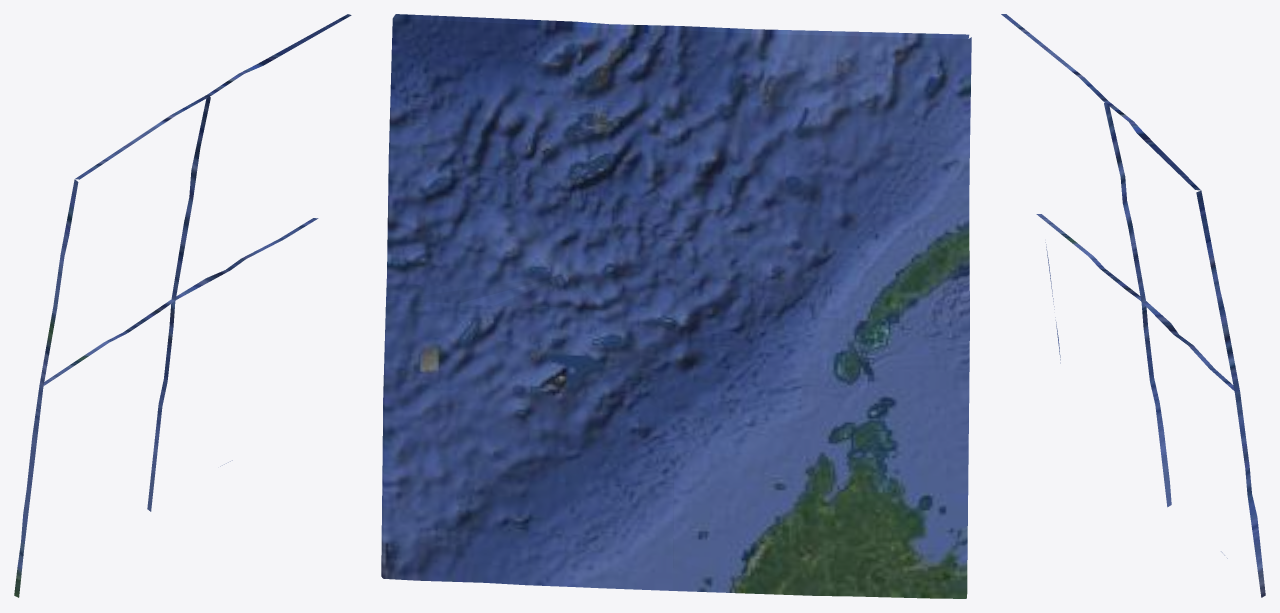
3 views of the same model, side by side, from view 1: azimuth 30°, elevation 25°; view 2: azimuth 150°, elevation 25°; view 3: azimuth 270°, elevation 25° (orthographic). The views are drawn at different scales.
Bounding box in the file's own units: 606880 × 623755 × 356218.
Materials: 1 (1 with a texture image).
